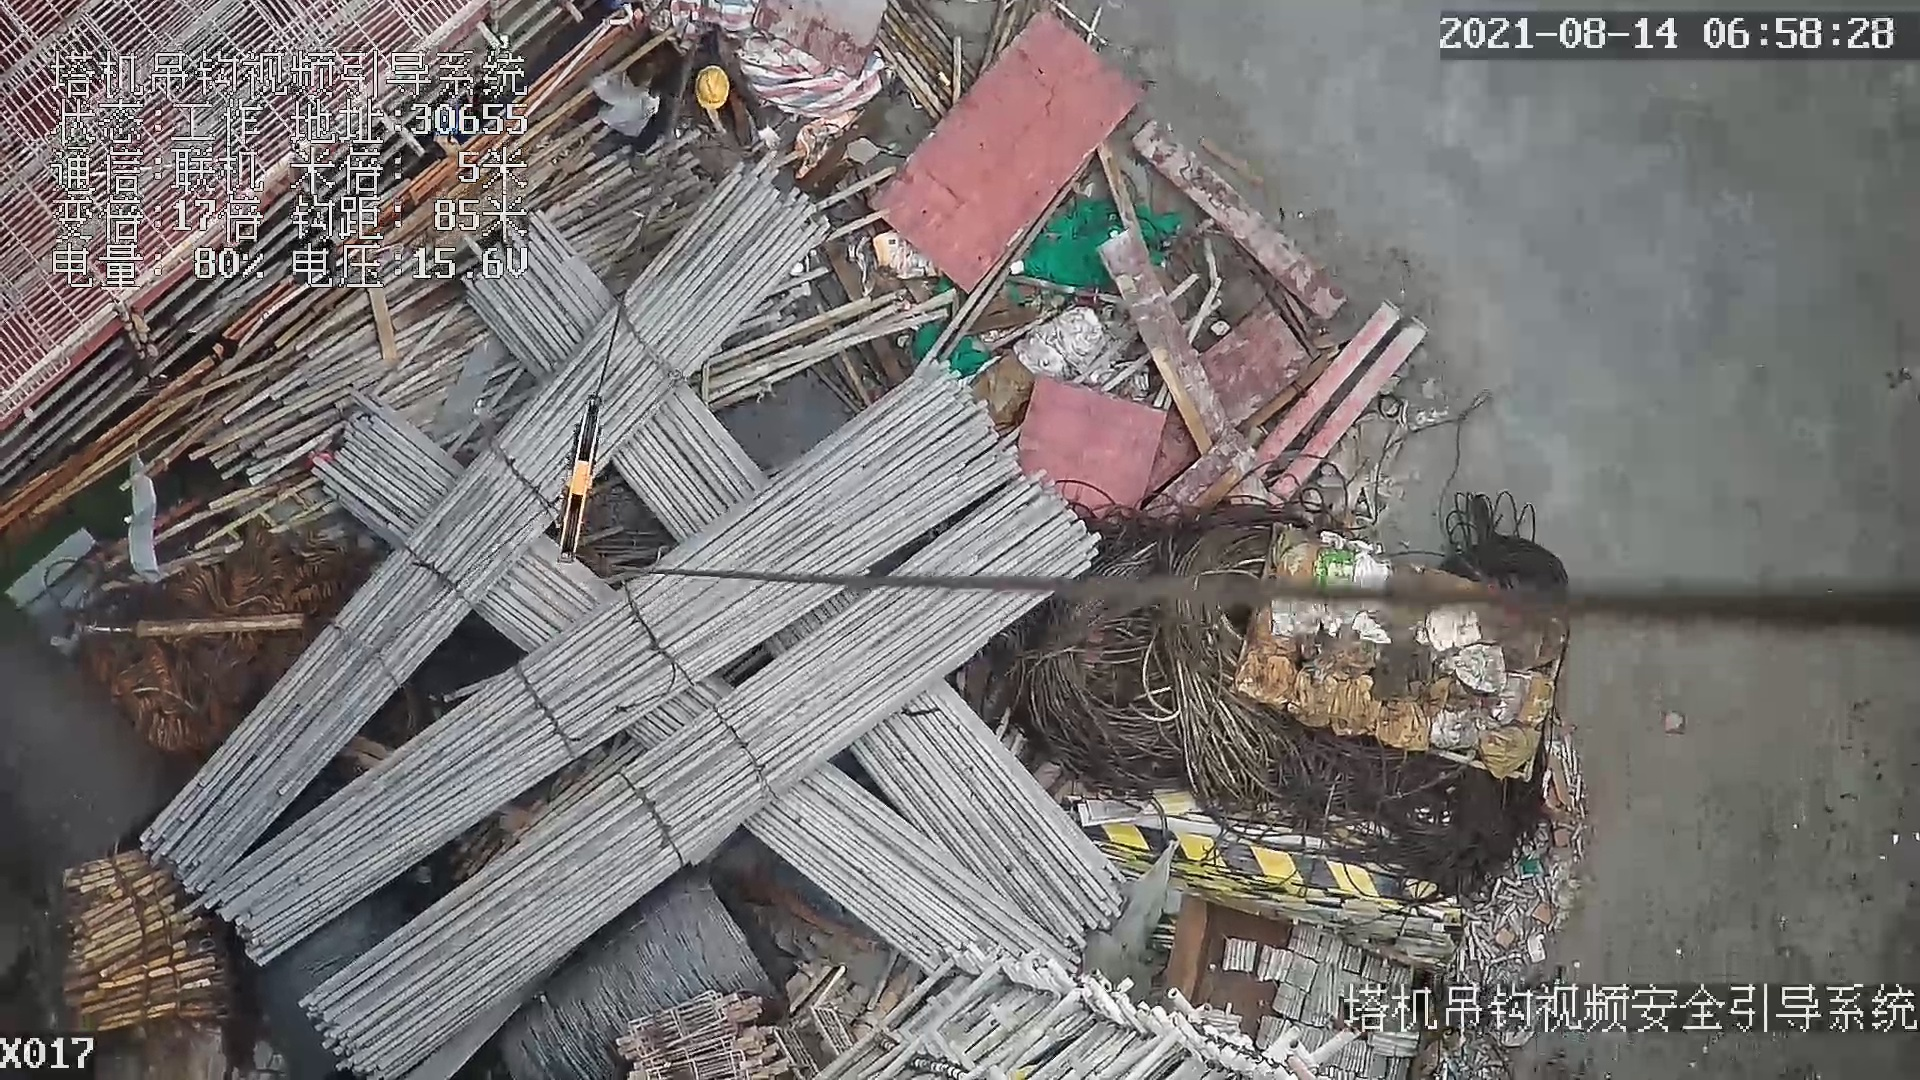helmet: (694, 65, 730, 110)
hook: (564, 391, 599, 563)
person: (637, 55, 778, 153)
rebar: (146, 169, 835, 891), (204, 360, 1016, 965), (303, 479, 1097, 1080), (746, 764, 1085, 979), (850, 683, 1120, 945)
scaffold: (59, 850, 238, 1033)
